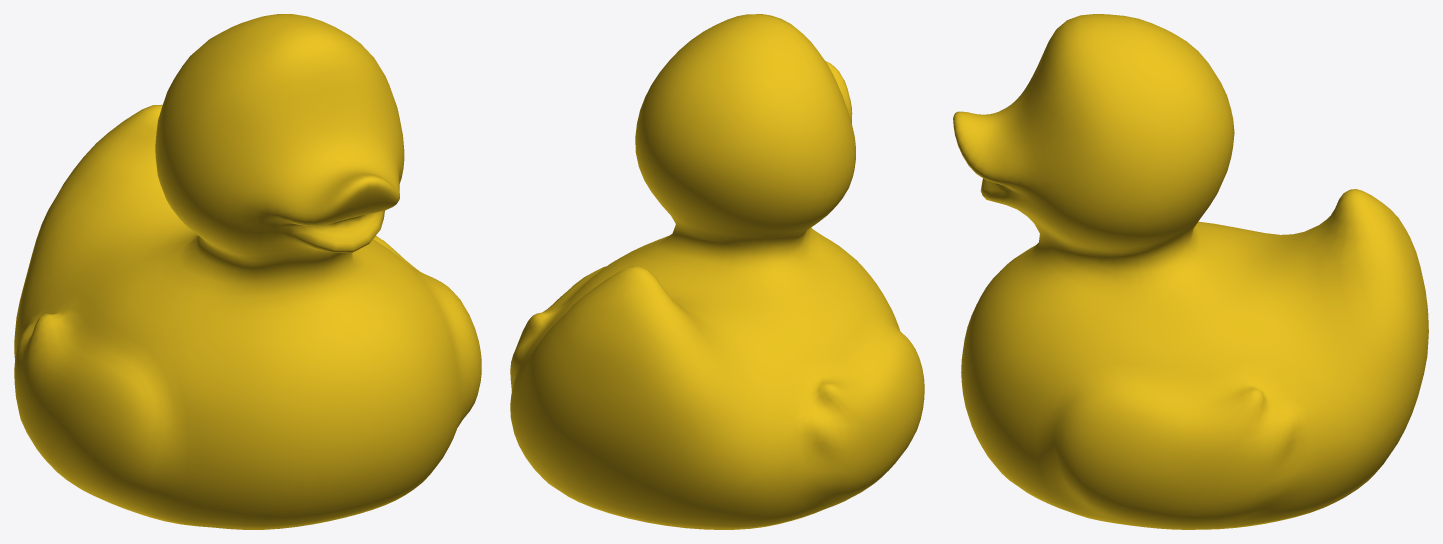
Rendered from duck.glb.
The picture shows the model from 3 angles, left to right: view 1: azimuth 30°, elevation 25°; view 2: azimuth 150°, elevation 25°; view 3: azimuth 270°, elevation 25°; orthographic projection. The views are drawn at different scales.
Parts seen in each view (by area): view 1: Duck_01; view 2: Duck_01; view 3: Duck_01.
Part boxes in pixels (box(x1,y1,x2,y2)): Duck_01: box(14, 14, 481, 529); Duck_01: box(510, 14, 924, 529); Duck_01: box(953, 14, 1428, 529).
Bounding box in the file's own units: 0.4026 × 0.4485 × 0.4398.
